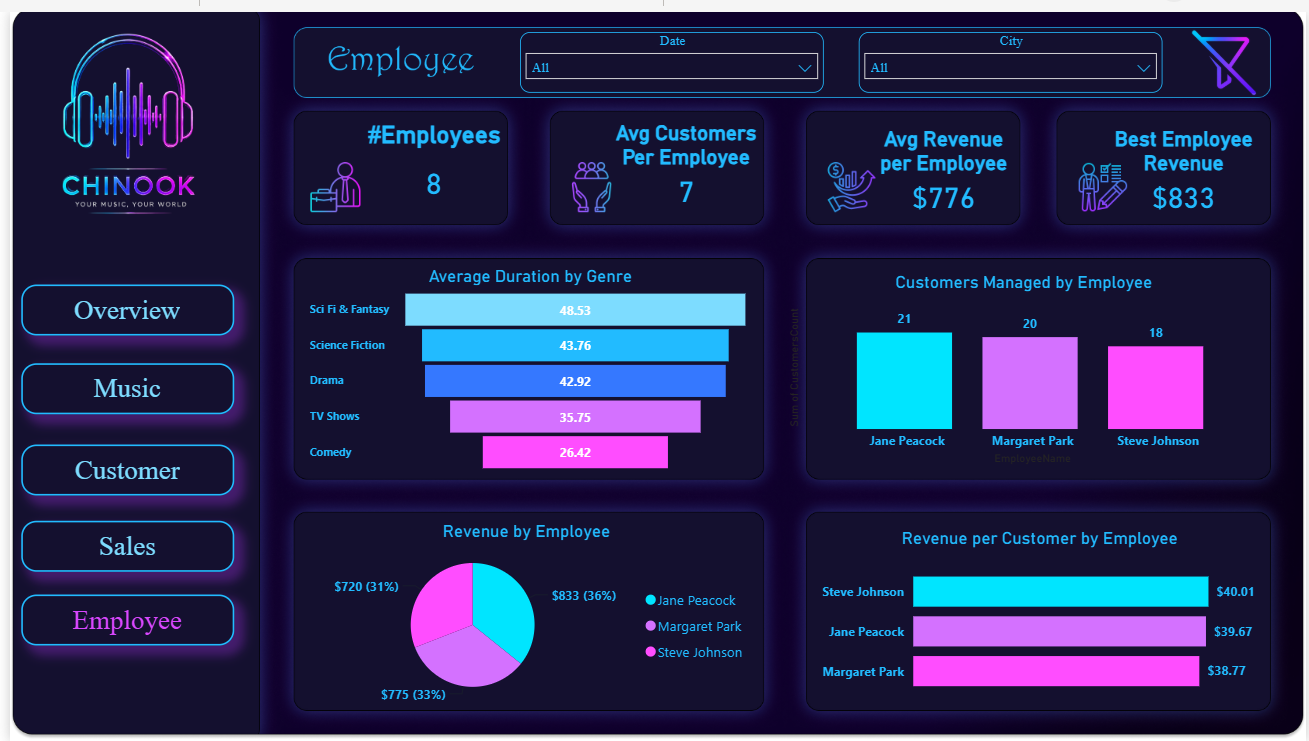

The page's visual inventory and layout, read from the dashboard file:
{"tool":"powerbi","page":{"name":"Employee","canvas":[1280,720],"ordinal":4},"visuals":[{"type":"image","box":[0,0,234.6,227.8],"z":0},{"type":"card","title":"#Employees","fields":{"Values":["Dax.Total Employees"]},"box":[334.8,107,168.8,94.7],"z":1000},{"type":"card","title":"Avg Customers Per Employee","fields":{"Values":["Dax.Supported Customers"]},"box":[588.7,107.4,158,90.5],"z":2000},{"type":"card","title":"Avg Revenue per Employee","fields":{"Values":["Dax.Avg Revenue per Employee"]},"box":[843.3,113.4,158,90.5],"z":3000},{"type":"card","title":"Best Employee Revenue","fields":{"Values":["Dax.Best Employee Revenue"]},"box":[1080.1,113.5,158.1,90.5],"z":4000},{"type":"image","box":[292.3,148.2,57.6,49.4],"z":5000},{"type":"image","box":[546.1,148.2,57.6,49.4],"z":6000},{"type":"image","box":[802.7,148.2,57.6,49.4],"z":7000},{"type":"image","box":[1051.1,148.2,57.6,49.4],"z":8000},{"type":"pieChart","title":"Revenue by Employee","fields":{"Category":["Revenue by Employee.EmployeeName"],"Y":["Sum(Revenue by Employee.Revenue)"]},"box":[282.3,501.9,454.8,187],"z":9000},{"type":"clusteredColumnChart","title":"Customers Managed by Employee","fields":{"Category":["Customers Managed by Employee.EmployeeName"],"Y":["Sum(Customers Managed by Employee.CustomersCount)"]},"box":[763.8,256.3,474.4,195.1],"z":10000},{"type":"barChart","title":"Revenue per Customer by Employee","fields":{"Category":["Revenue per Customer by Employee.EmployeeName"],"Y":["Sum(Revenue per Customer by Employee.RevenuePerCustomer)"]},"box":[796.3,510.3,441.6,178.6],"z":11000},{"type":"actionButton","title":" Overview","box":[11,269,210,50],"z":12000},{"type":"actionButton","title":"Music","box":[11,347.2,210,50],"z":13000},{"type":"actionButton","title":"Customer","box":[11,426.8,210,50],"z":14000},{"type":"actionButton","title":"Sales","box":[11,502.2,210,50],"z":15000},{"type":"actionButton","title":"Employee","box":[11,575,210,50],"z":16000},{"type":"slicer","title":"City","fields":{"Values":["employee.City"]},"box":[838.8,20,300,60],"z":17000},{"type":"slicer","title":"Date","fields":{"Values":["DateDim.Year","DateDim.MonthName"]},"box":[503.8,20,300,60],"z":18000},{"type":"image","box":[1160.6,14.5,77.2,70],"z":19000},{"type":"funnel","title":"Average Duration by Genre","fields":{"Category":["Average Duration by Genre.Genre"],"Y":["Sum(Average Duration by Genre.AvgMinutes)"]},"box":[292,250.9,445.2,208.7],"z":20000}]}

Visuals, with their boxes in screenshot pixels (x1, y1, x2, y2), scaled from the page's 1280x720 canvas onto the 1309x741 screenshot:
image: <region>0, 0, 240, 234</region>
"#Employees" card: <region>342, 110, 515, 208</region>
"Avg Customers Per Employee" card: <region>602, 111, 764, 204</region>
"Avg Revenue per Employee" card: <region>862, 117, 1024, 210</region>
"Best Employee Revenue" card: <region>1105, 117, 1266, 210</region>
image: <region>299, 153, 358, 203</region>
image: <region>558, 153, 617, 203</region>
image: <region>821, 153, 880, 203</region>
image: <region>1075, 153, 1134, 203</region>
"Revenue by Employee" pieChart: <region>289, 517, 754, 709</region>
"Customers Managed by Employee" clusteredColumnChart: <region>781, 264, 1266, 465</region>
"Revenue per Customer by Employee" barChart: <region>814, 525, 1266, 709</region>
" Overview" actionButton: <region>11, 277, 226, 328</region>
"Music" actionButton: <region>11, 357, 226, 409</region>
"Customer" actionButton: <region>11, 439, 226, 491</region>
"Sales" actionButton: <region>11, 517, 226, 568</region>
"Employee" actionButton: <region>11, 592, 226, 643</region>
"City" slicer: <region>858, 21, 1165, 82</region>
"Date" slicer: <region>515, 21, 822, 82</region>
image: <region>1187, 15, 1266, 87</region>
"Average Duration by Genre" funnel: <region>299, 258, 754, 473</region>
